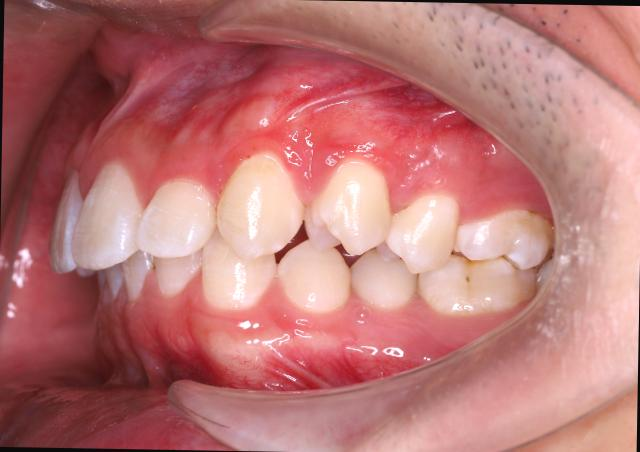canine class II 1/4: (201, 149, 355, 324)
molar class I: (416, 198, 558, 328)
